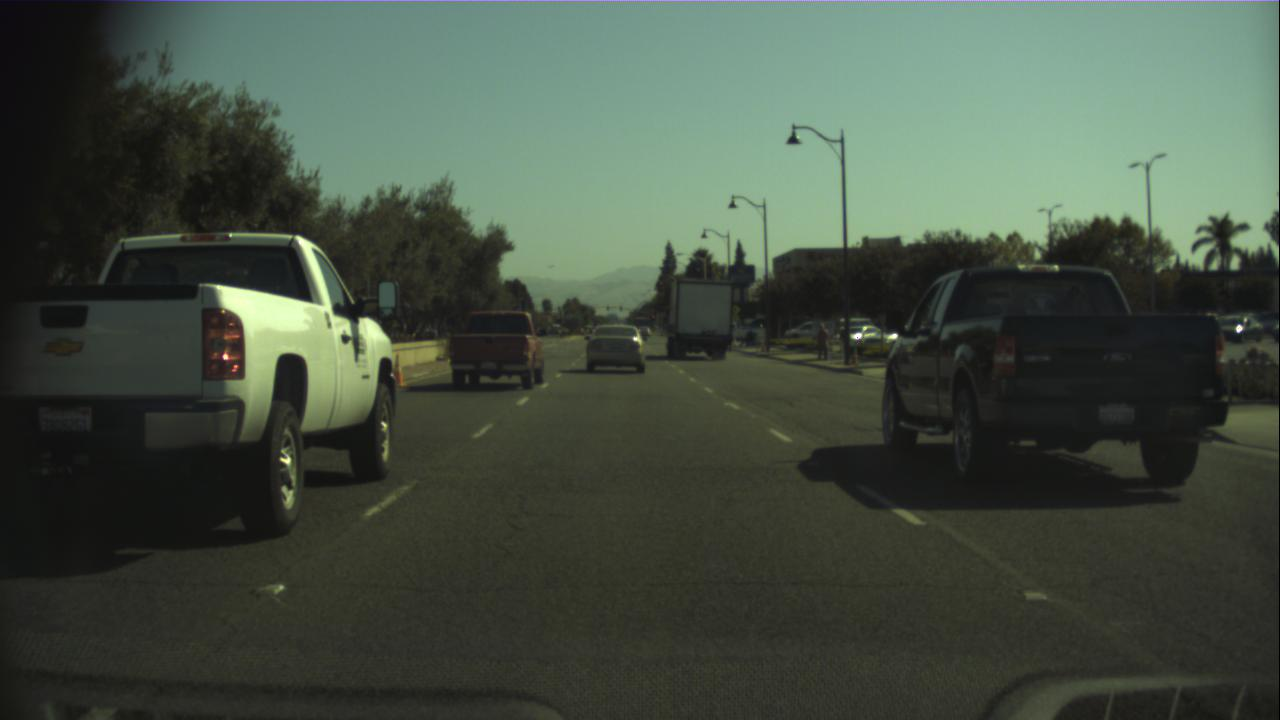Red: (651, 314, 655, 318)
off: (605, 302, 610, 310), (619, 303, 622, 311)
